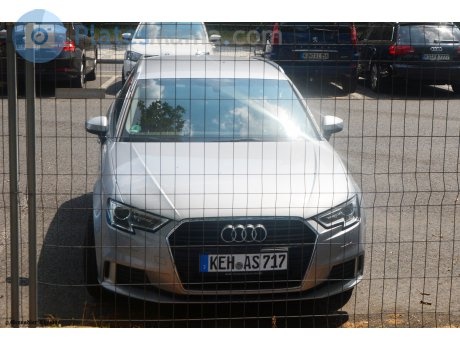License Plates: (206, 254, 285, 266)
